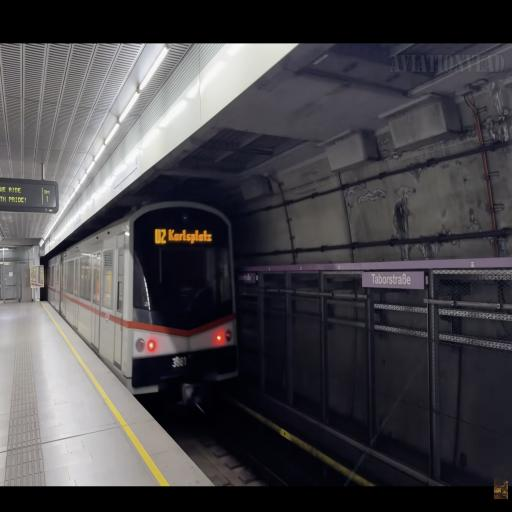X-Wagen: (47, 203, 239, 388)
